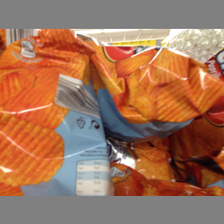chips: (1, 34, 102, 196), (93, 45, 224, 134)
